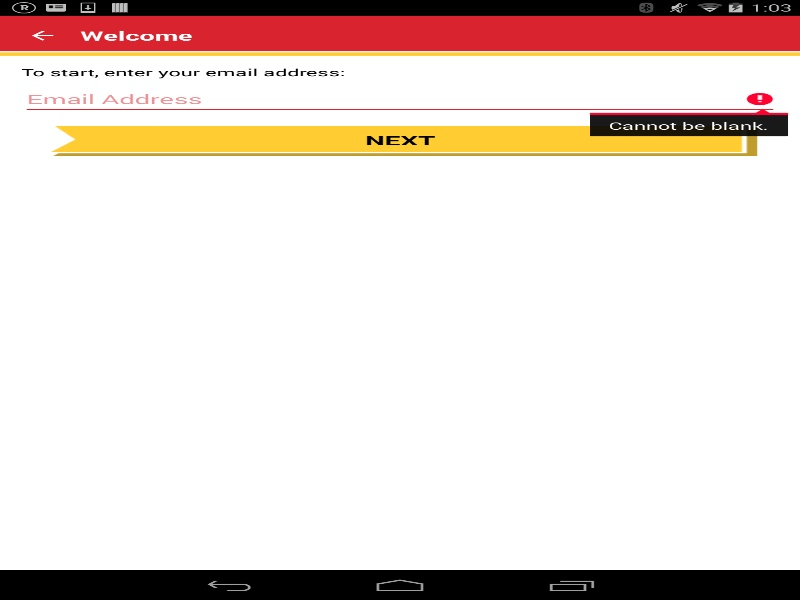Button: (42, 124, 757, 155), (0, 18, 74, 53)
Input: (21, 84, 778, 114)
